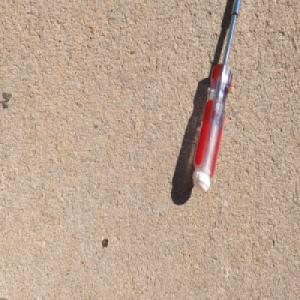Screwdriver: (189, 0, 242, 195)
